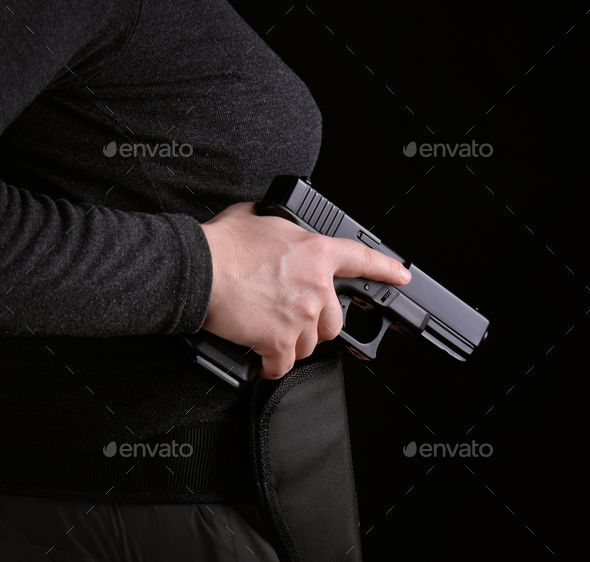gun: (185, 171, 495, 418)
